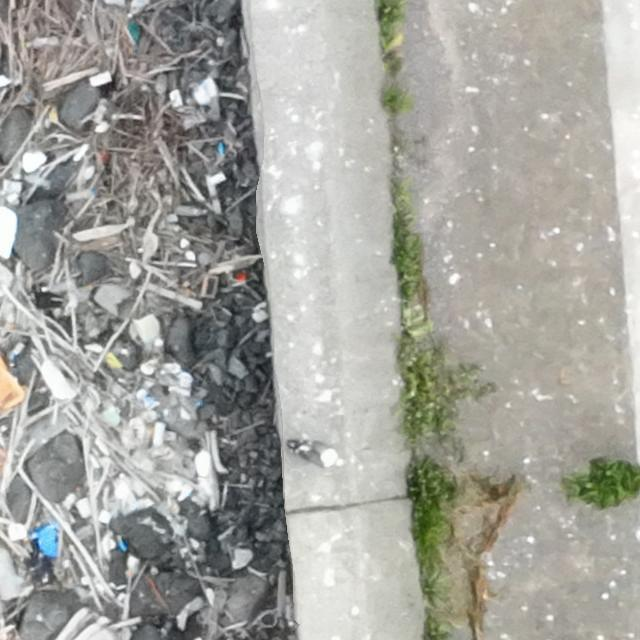umineko: (298, 443, 335, 465)
